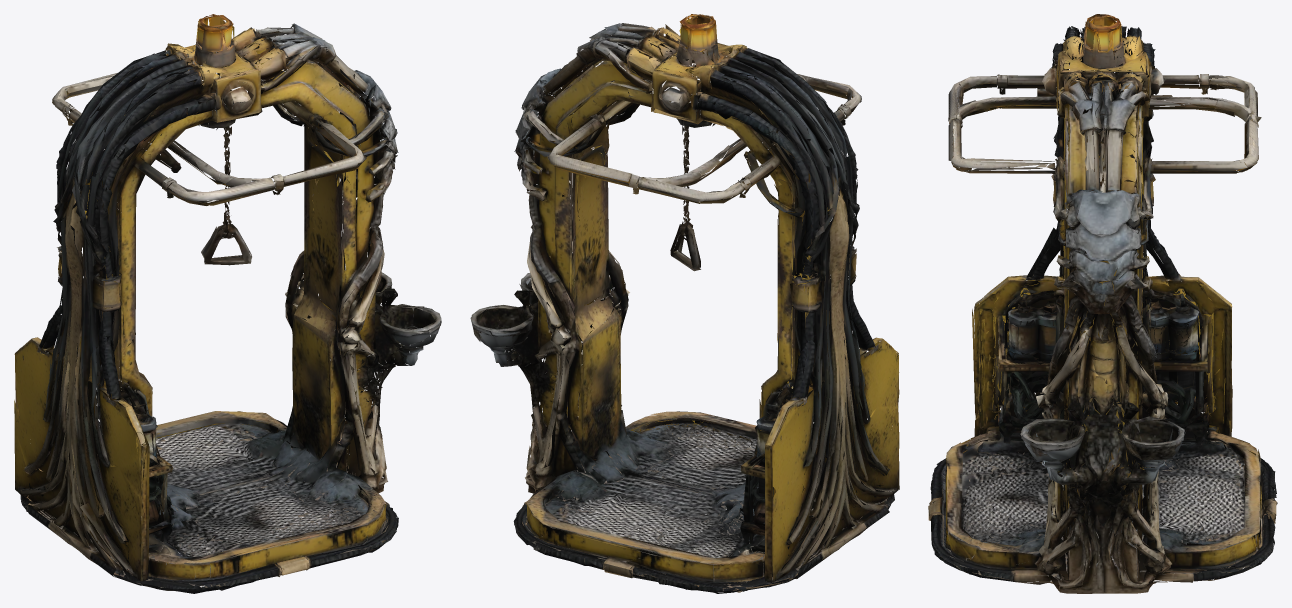
The model's file is decon_exosuit_scrubber_station.glb.
The picture shows the model from 3 angles, left to right: view 1: azimuth 30°, elevation 25°; view 2: azimuth 150°, elevation 25°; view 3: azimuth 270°, elevation 25°; orthographic projection.
Parts seen in each view (by area): view 1: node_0; view 2: node_0; view 3: node_0.
Boxes of the visible parts, <box> form: node_0: <box>14,14,441,593</box>; node_0: <box>470,14,899,593</box>; node_0: <box>928,14,1277,593</box>.
Size of the model in its own units: 0.697 by 0.9445 by 0.5962.
Materials: 1 (1 with a texture image).
